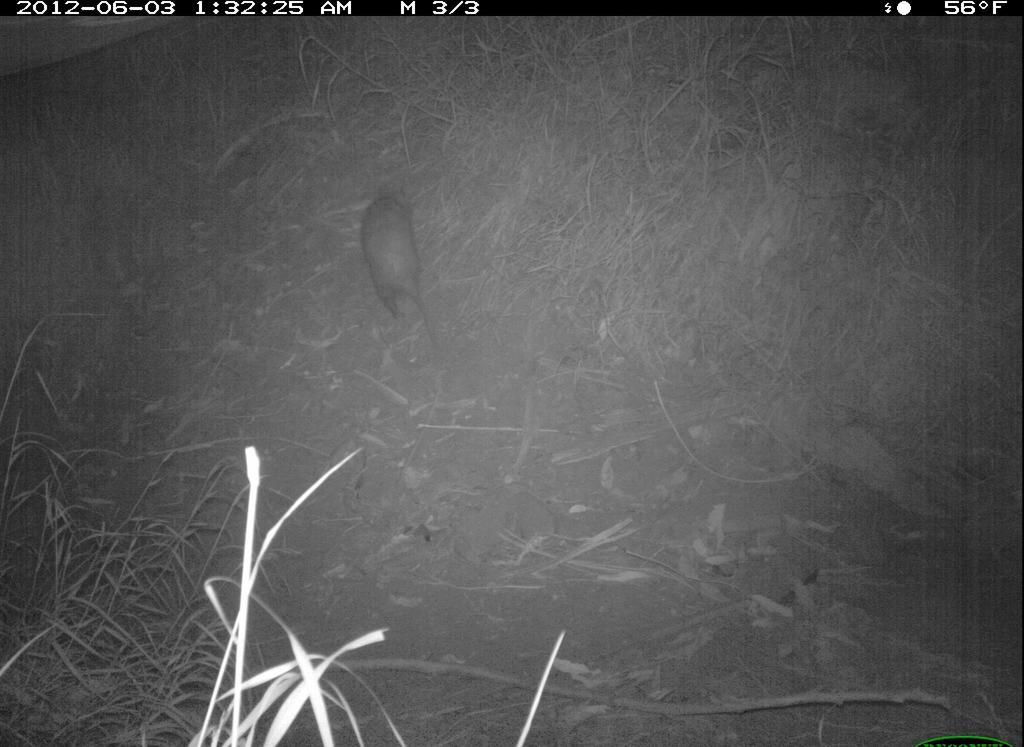opossum: (354, 185, 451, 356)
